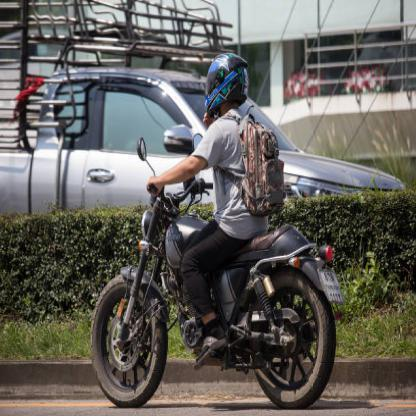Motorcycle: (86, 181, 344, 408)
